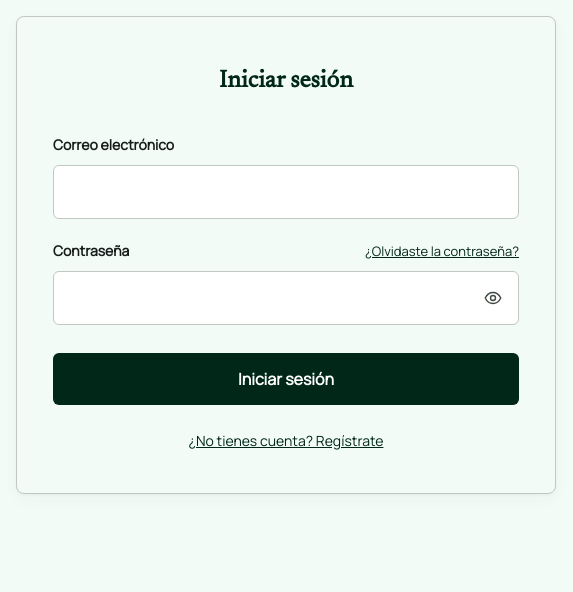
Test: Login Page › shows uniform error message and activation notice on 401
Type "hortelano@example.com" into the field labelled "Correo electrónico".
click(286, 192); type("hortelano@example.com")  # box x1=53 y1=165 x2=519 y2=219
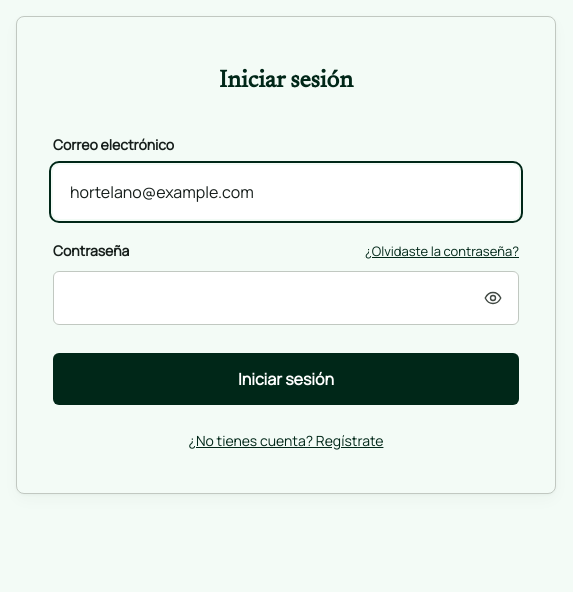
Type "WrongPassword!" into the password field labelled "Contraseña".
click(286, 298); type("WrongPassword!")  # box x1=53 y1=271 x2=519 y2=325
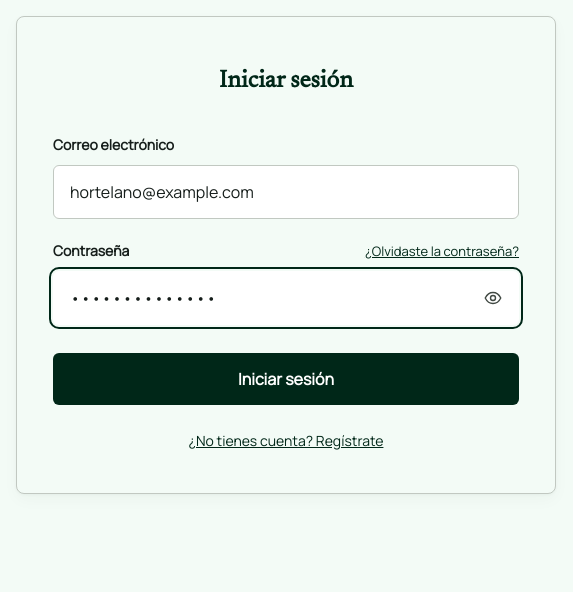
Click the button "Iniciar sesión".
click(286, 379)  # box x1=53 y1=353 x2=519 y2=405
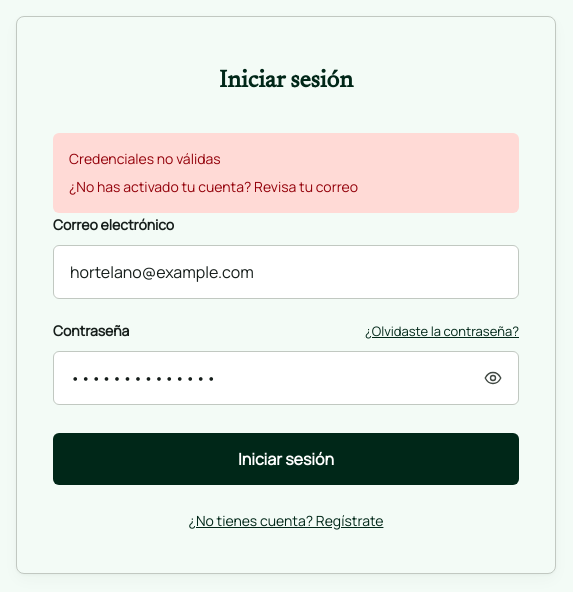
Result: the text "Credenciales no válidas" is shown at x1=69 y1=149 x2=221 y2=168
Result: the text "¿No has activado tu cuenta? Revisa tu correo" is shown at x1=69 y1=177 x2=358 y2=196
